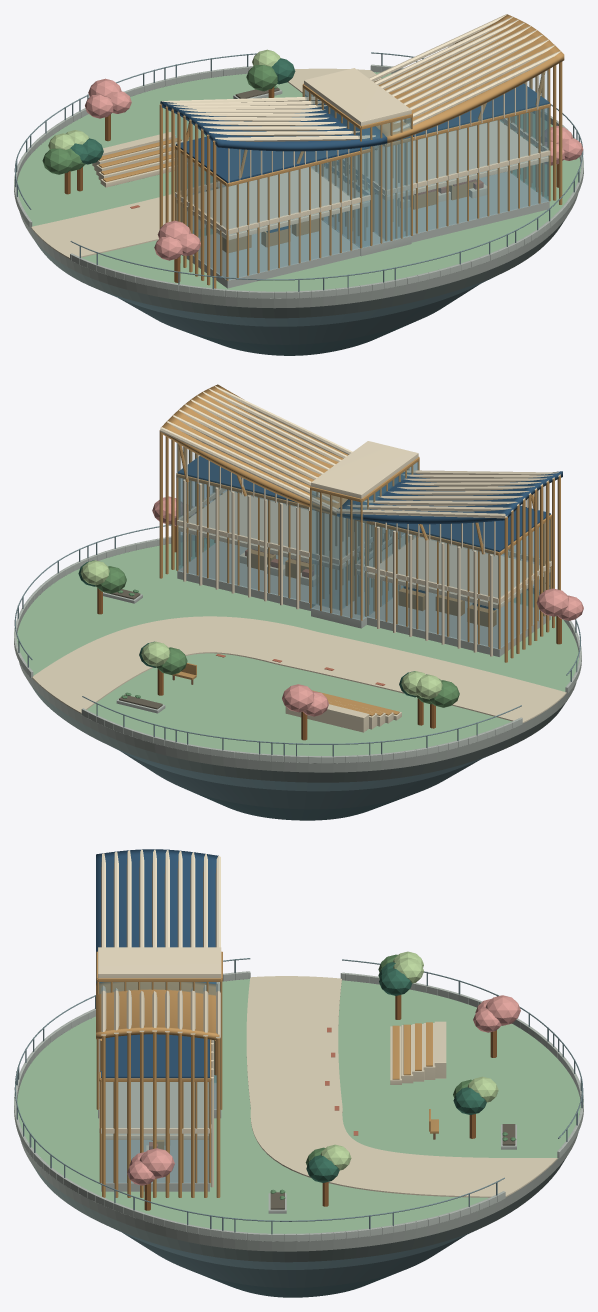
3 views of the same model, one above another, from view 1: azimuth 30°, elevation 25°; view 2: azimuth 150°, elevation 25°; view 3: azimuth 270°, elevation 25° (orthographic). The views are drawn at different scales.
Visible parts, largest first — view 1: ROLE_building_Components__eduGlass, ROLE_terrain_Components__grass, ROLE_building_Components__eduAmber, ROLE_roof_Components__eduCream, ROLE_building_Components__eduCream, ROLE_roof_Components__eduGlass, ROLE_roof_Components__eduAmber, ROLE_paving_Components__stone2, ROLE_roof_Components__eduBlue, ROLE_rails_Components__stone2, ROLE_paving_Components__paveLight, ROLE_terrain_Components__stone2 (+12 smaller); view 2: ROLE_terrain_Components__grass, ROLE_building_Components__eduGlass, ROLE_paving_Components__paveLight, ROLE_building_Components__eduAmber, ROLE_roof_Components__eduCream, ROLE_building_Components__eduCream, ROLE_roof_Components__eduGlass, ROLE_roof_Components__eduAmber, ROLE_paving_Components__stone2, ROLE_roof_Components__eduBlue, ROLE_rails_Components__stone2, ROLE_terrain_Components__stone2 (+11 smaller); view 3: ROLE_terrain_Components__grass, ROLE_paving_Components__paveLight, ROLE_roof_Components__eduCream, ROLE_roof_Components__eduBlue, ROLE_building_Components__eduAmber, ROLE_rails_Components__stone2, ROLE_building_Components__eduGlass, ROLE_roof_Components__eduAmber, ROLE_terrain_Components__stone2, ROLE_terrain_Components__cliff3, ROLE_building_Components__eduCream, ROLE_terrain_Components__cliff2 (+10 smaller).
Part boxes in pixels (<box>): ROLE_building_Components__eduGlass: <box>176,107,549,280</box>; ROLE_terrain_Components__grass: <box>17,72,581,291</box>; ROLE_building_Components__eduAmber: <box>98,62,562,288</box>; ROLE_roof_Components__eduCream: <box>160,14,560,182</box>; ROLE_building_Components__eduCream: <box>175,118,550,240</box>; ROLE_roof_Components__eduGlass: <box>175,70,548,247</box>; ROLE_roof_Components__eduAmber: <box>186,14,564,248</box>; ROLE_paving_Components__stone2: <box>182,172,549,288</box>; ROLE_roof_Components__eduBlue: <box>160,83,549,183</box>; ROLE_rails_Components__stone2: <box>14,64,583,298</box>; ROLE_paving_Components__paveLight: <box>31,68,384,258</box>; ROLE_terrain_Components__stone2: <box>19,194,577,308</box>; ROLE_terrain_Components__grass: <box>16,539,578,755</box>; ROLE_building_Components__eduGlass: <box>178,478,550,648</box>; ROLE_paving_Components__paveLight: <box>32,616,566,722</box>; ROLE_building_Components__eduAmber: <box>159,430,560,716</box>; ROLE_roof_Components__eduCream: <box>160,386,560,556</box>; ROLE_building_Components__eduCream: <box>177,479,551,656</box>; ROLE_roof_Components__eduGlass: <box>176,443,545,620</box>; ROLE_roof_Components__eduAmber: <box>161,384,534,620</box>; ROLE_paving_Components__stone2: <box>177,541,550,656</box>; ROLE_roof_Components__eduBlue: <box>177,456,562,551</box>; ROLE_rails_Components__stone2: <box>14,535,581,763</box>; ROLE_terrain_Components__stone2: <box>19,662,576,772</box>; ROLE_terrain_Components__grass: <box>17,979,580,1233</box>; ROLE_paving_Components__paveLight: <box>246,976,557,1197</box>; ROLE_roof_Components__eduCream: <box>98,849,221,1073</box>; ROLE_roof_Components__eduBlue: <box>96,849,218,1078</box>; ROLE_building_Components__eduAmber: <box>99,1022,432,1197</box>; ROLE_rails_Components__stone2: <box>14,971,583,1241</box>; ROLE_building_Components__eduGlass: <box>105,1082,208,1182</box>; ROLE_roof_Components__eduAmber: <box>96,951,222,1109</box>; ROLE_terrain_Components__stone2: <box>20,1132,578,1251</box>; ROLE_terrain_Components__cliff3: <box>31,1157,566,1262</box>; ROLE_building_Components__eduCream: <box>99,1040,213,1187</box>; ROLE_terrain_Components__cliff2: <box>123,1233,465,1287</box>.
Size of the model in its own units: 32.74 by 17.99 by 29.82.
